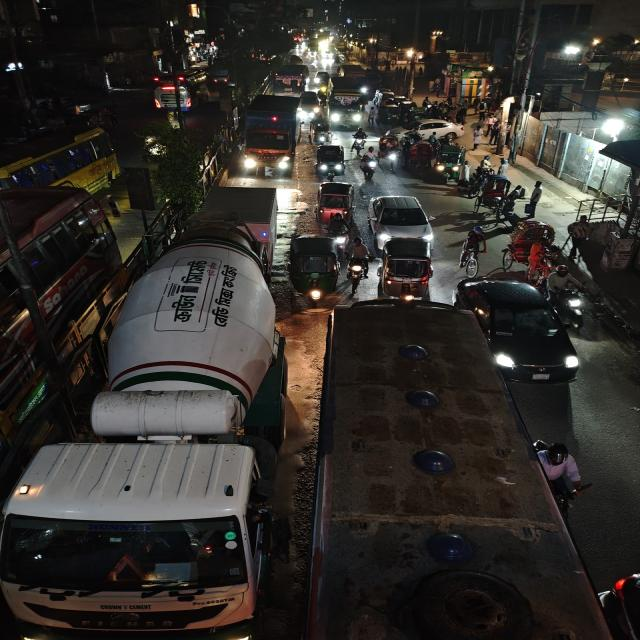bicycle: (454, 226, 486, 276)
bus: (4, 223, 286, 638), (0, 124, 117, 202), (152, 68, 207, 114), (325, 76, 369, 130), (270, 64, 309, 96), (336, 63, 369, 85)
car: (458, 273, 582, 388), (376, 236, 437, 298), (368, 193, 436, 244), (408, 118, 464, 136)
cng: (286, 236, 342, 308), (313, 143, 347, 178), (432, 144, 467, 178), (310, 119, 332, 145)
motorcycle: (545, 264, 590, 324), (346, 237, 372, 281), (359, 153, 377, 181), (352, 127, 369, 153)
pedestrian: (524, 185, 544, 218), (502, 189, 523, 218), (470, 122, 485, 150), (494, 156, 509, 177), (481, 154, 496, 174), (514, 183, 527, 199)
rickshaw: (499, 220, 556, 276), (313, 180, 358, 224), (377, 133, 402, 171)
truck: (240, 92, 304, 181)
